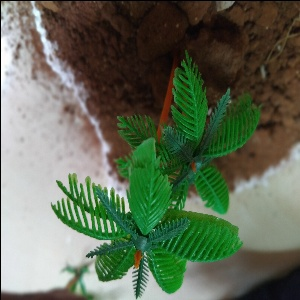plant: (49, 155, 245, 300), (118, 56, 269, 204)
